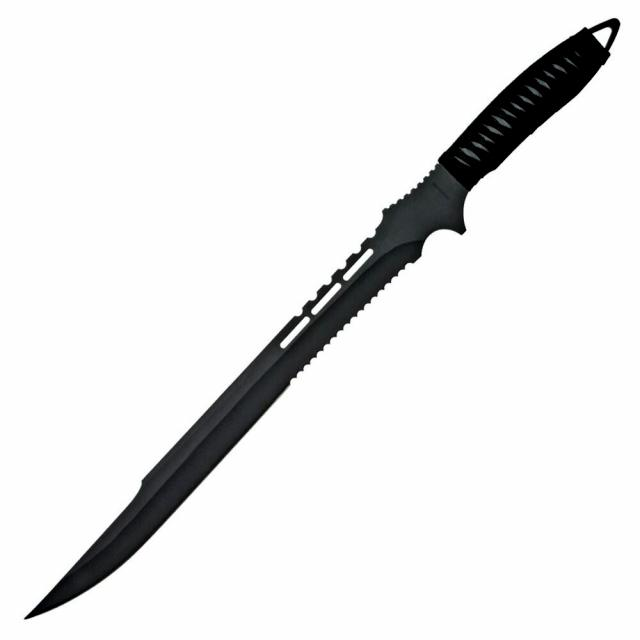short sword: (4, 2, 623, 626)
